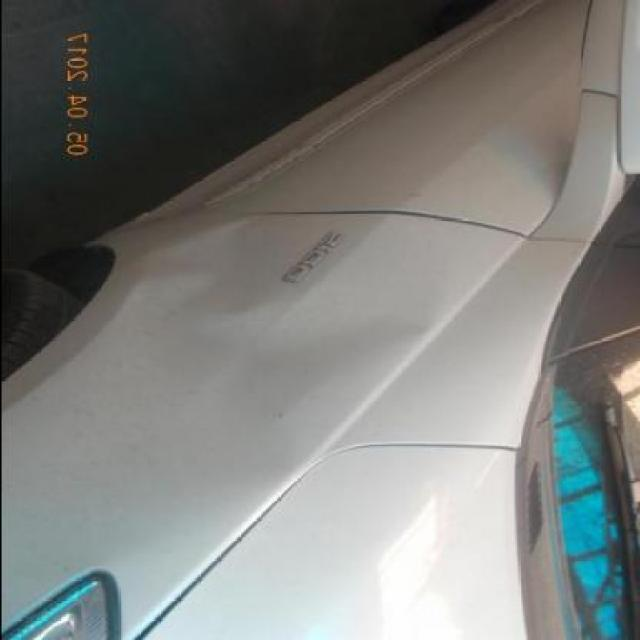damage: (121, 208, 432, 420)
